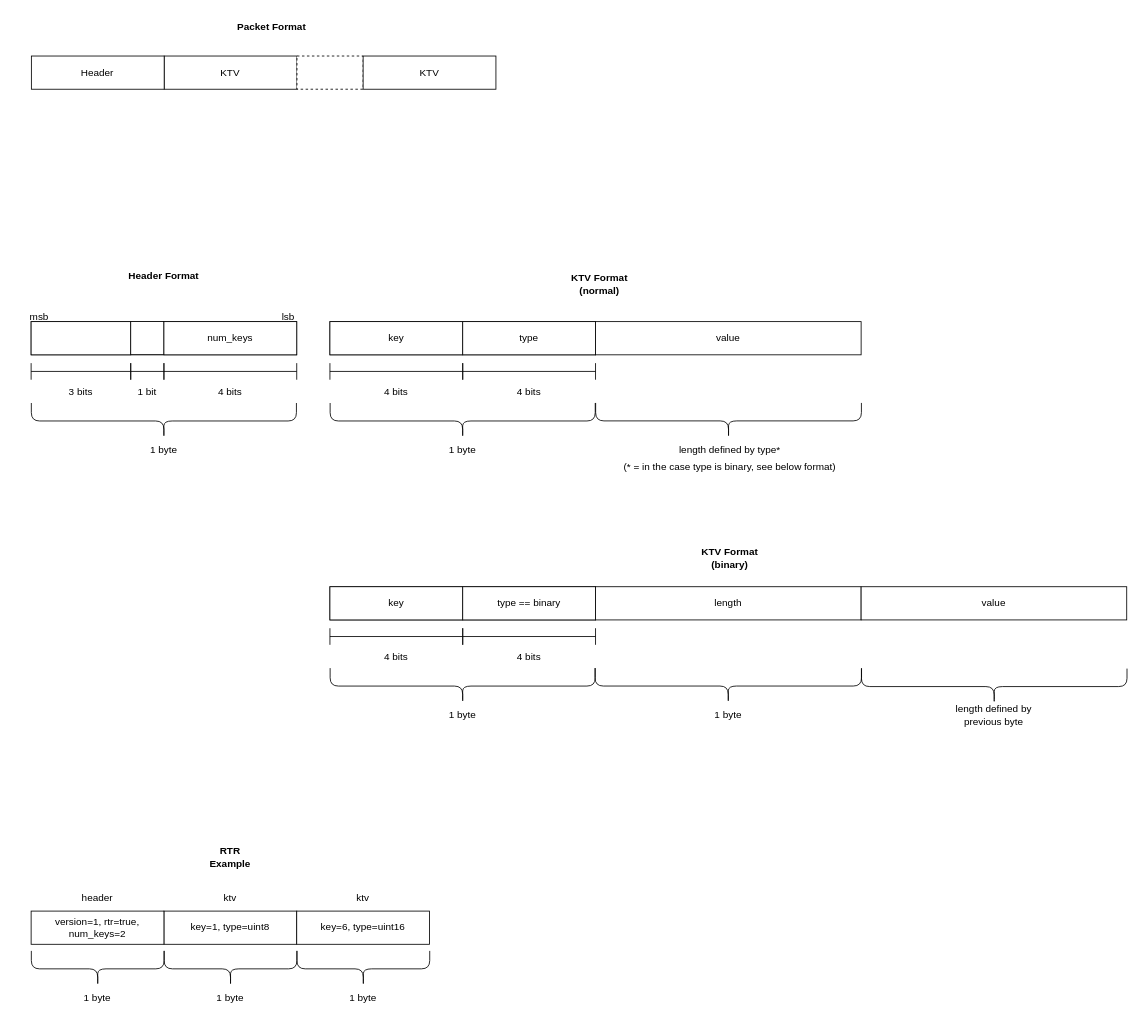
The diagram is 1141 pixels wide and 1025 high, and some of its shapes have lost their labels. Each missing label, with the box of its shape:
0...n: (296, 55, 363, 89)
rtr: (130, 321, 164, 355)
version: (30, 321, 131, 355)
